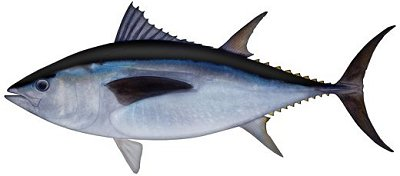Bluefina Tuna: (6, 3, 394, 174)
